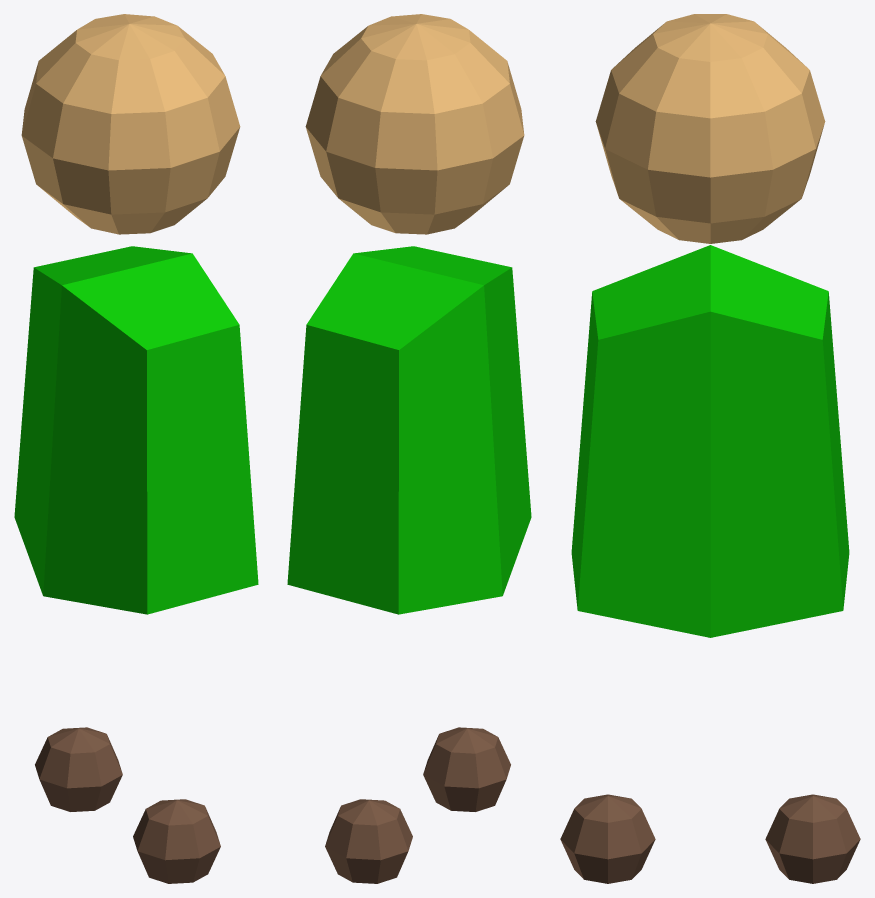
Rendered from Luigi.fbx.
The picture shows the model from 3 angles, left to right: view 1: azimuth 30°, elevation 25°; view 2: azimuth 150°, elevation 25°; view 3: azimuth 270°, elevation 25°; orthographic projection. The views are drawn at different scales.
Parts seen in each view (by area): view 1: Luigi; view 2: Luigi; view 3: Luigi.
Boxes of the visible parts, box(x1,y1,x2,y2) form: Luigi: box(14, 14, 258, 883); Luigi: box(287, 14, 531, 883); Luigi: box(560, 14, 860, 883).
Bounding box in the file's own units: 46.73 × 195 × 61.77.
